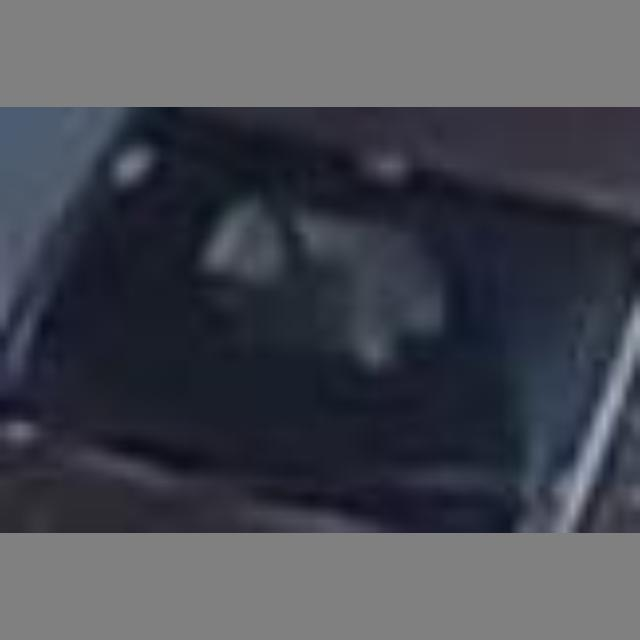pakai: (182, 178, 458, 399)
